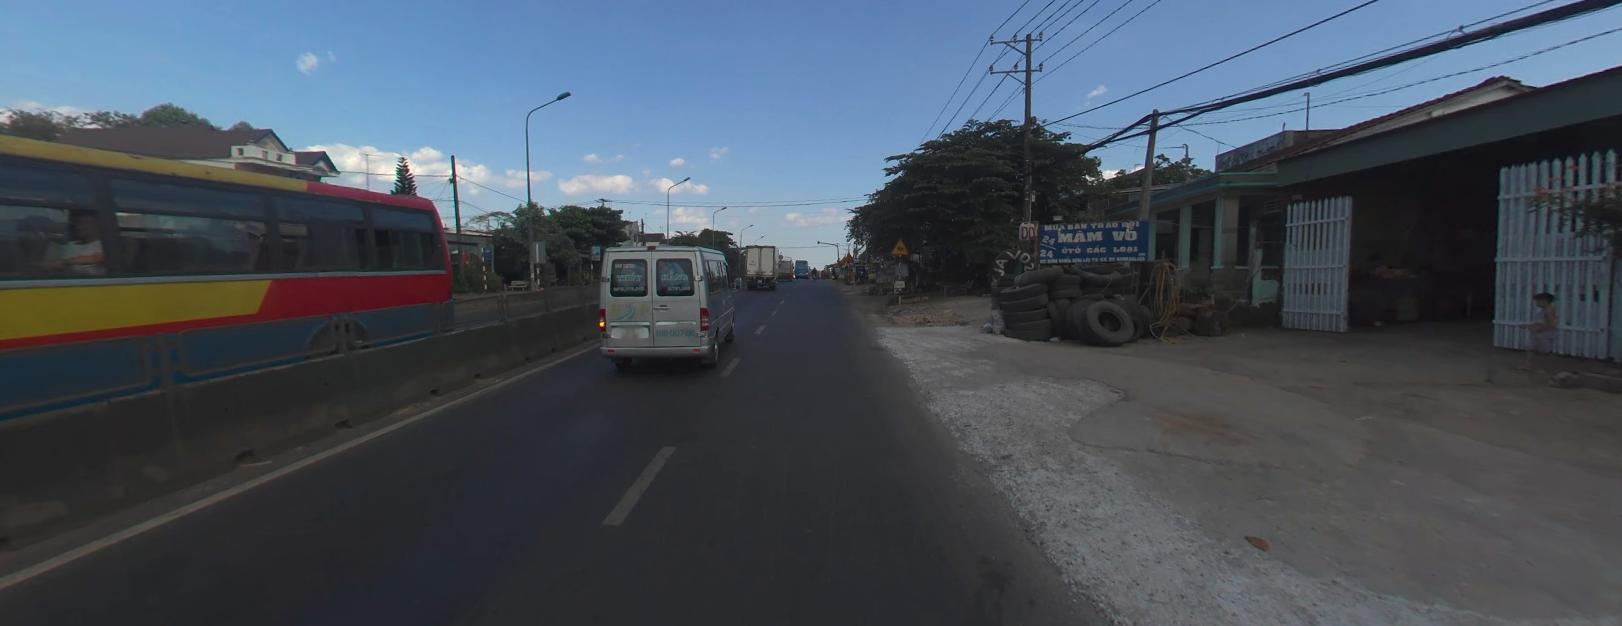Nguy hiem: (891, 236, 910, 254), (844, 254, 854, 260), (840, 255, 847, 261), (833, 261, 838, 265)
